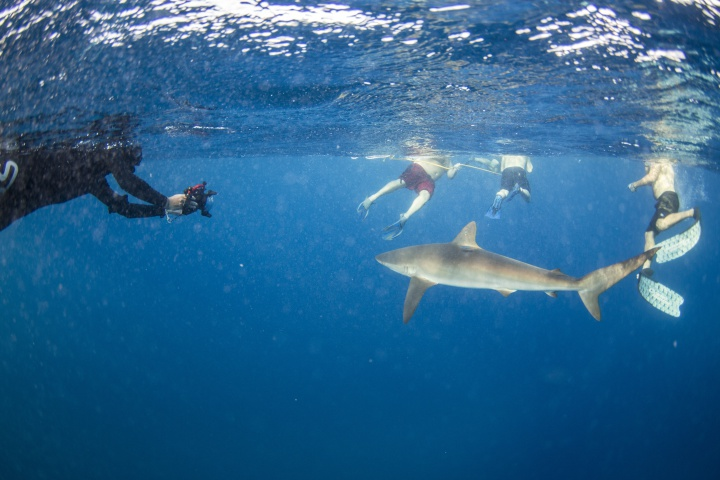Sedoso: (357, 218, 668, 339)
